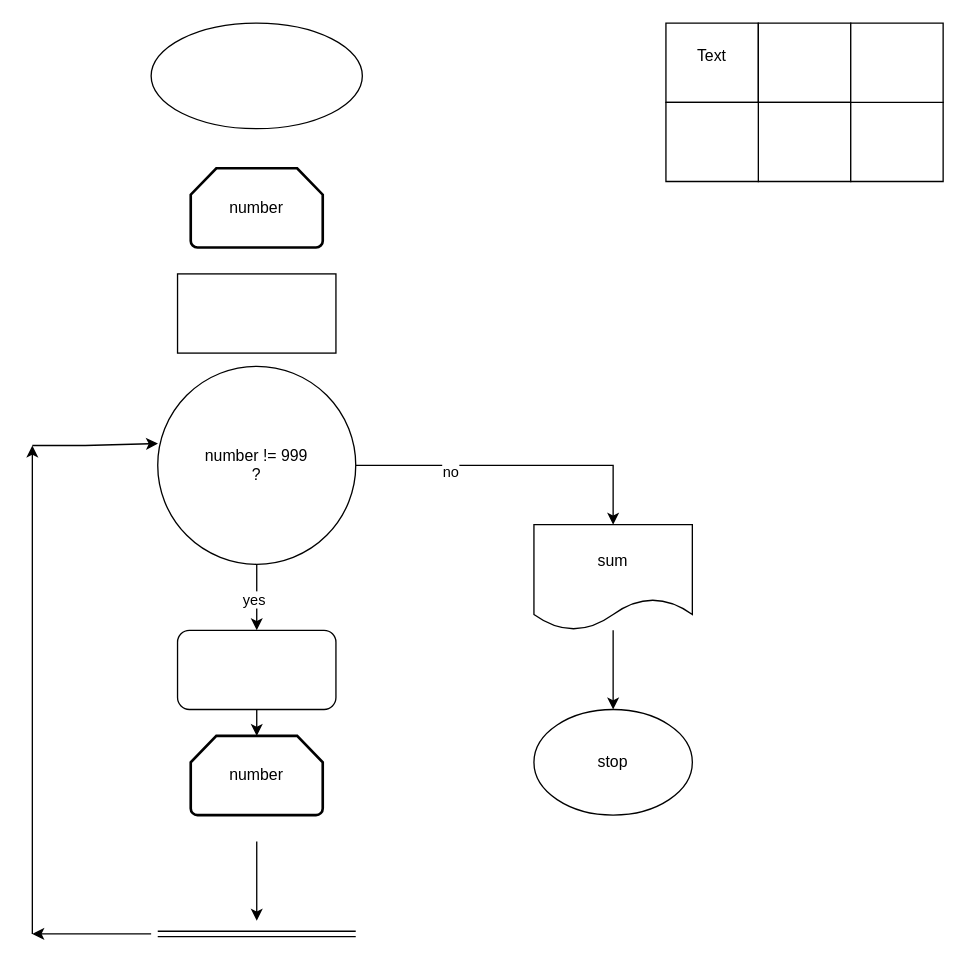
Image size: 966x968. Some labels were removed from this diagram. The centre of each missing label's shape, as x and y in pixels:
"start" belongs at point (256, 75).
"sum += number" belongs at point (256, 669).
"sum = 0" belongs at point (256, 313).
